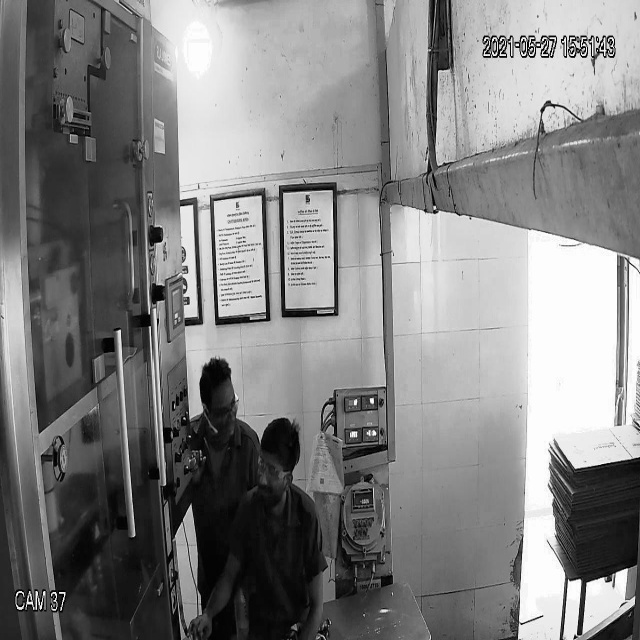Gafas: (253, 447, 293, 487)
